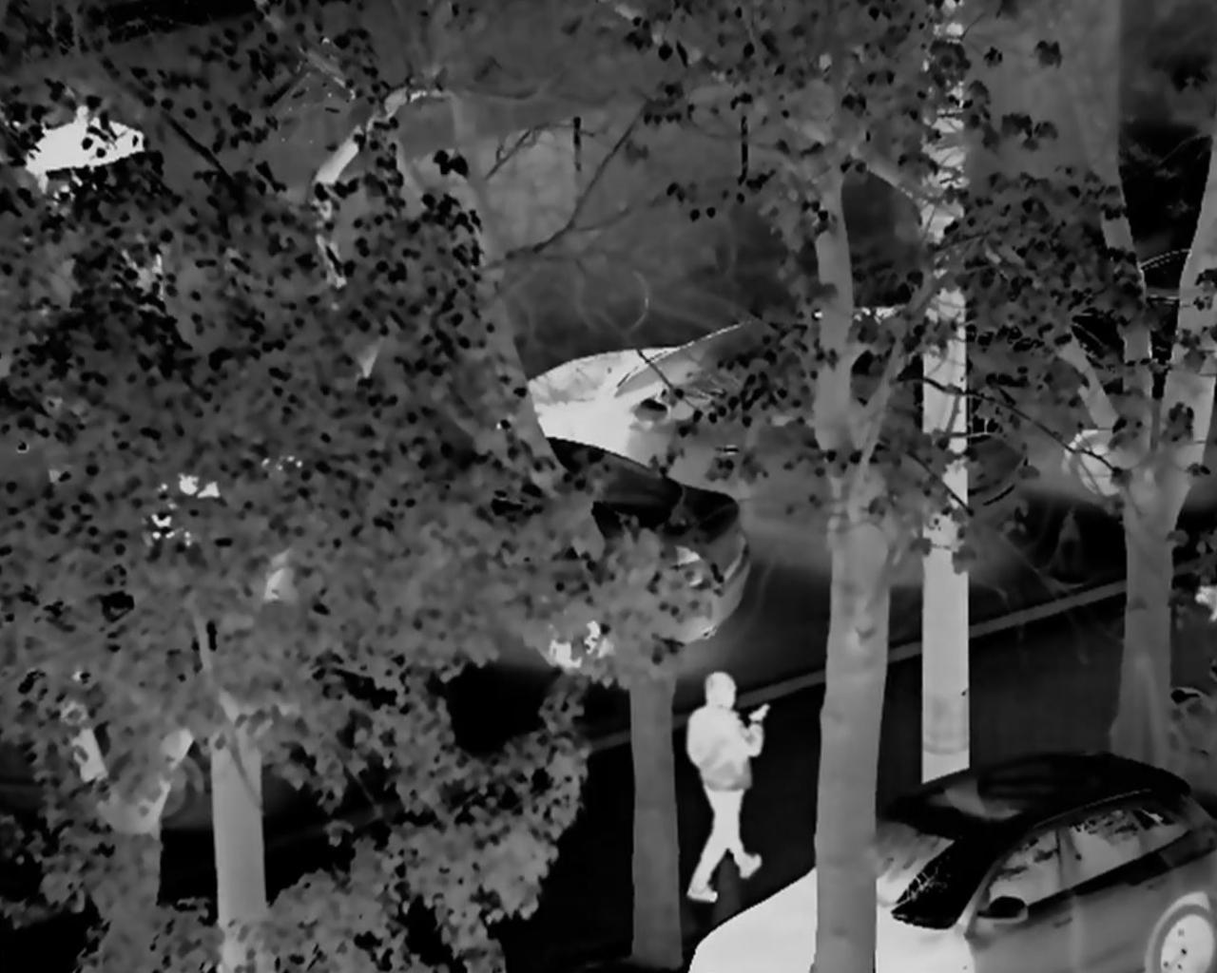person: (673, 666, 771, 909)
